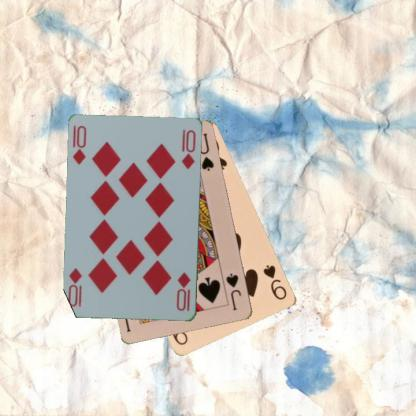10d: (70, 123, 88, 166), (174, 270, 192, 312)
9s: (261, 262, 288, 302)
Js: (224, 271, 243, 312)
